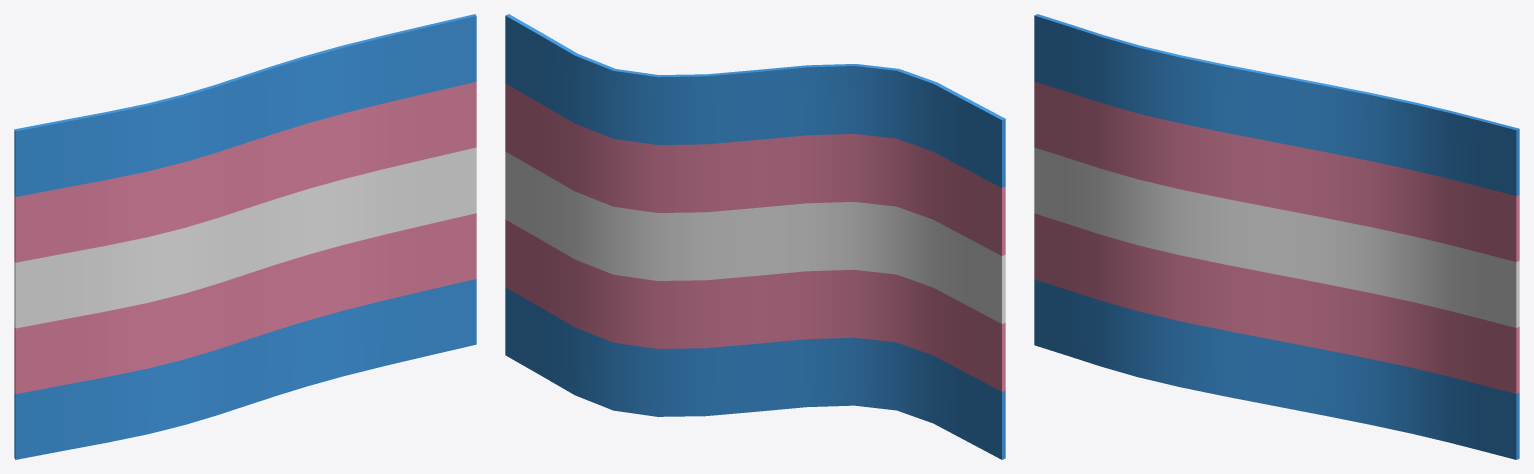
Rendered from transgender_flag.glb.
The picture shows the model from 3 angles, left to right: view 1: azimuth 30°, elevation 25°; view 2: azimuth 150°, elevation 25°; view 3: azimuth 330°, elevation 25°; orthographic projection. The views are drawn at different scales.
Visible parts, largest first — view 1: transgender_flag; view 2: transgender_flag; view 3: transgender_flag.
Part boxes in pixels (x1,y1,x2,y2): transgender_flag: (14,14,476,459); transgender_flag: (505,14,1005,459); transgender_flag: (1034,14,1519,459).
Bounding box in the file's own units: 2.18 × 1.58 × 0.3373.
Materials: 1 (1 with a texture image).
